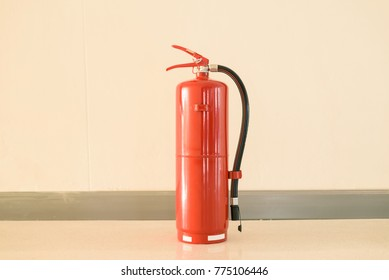fire_extinguisher: (165, 44, 250, 244)
